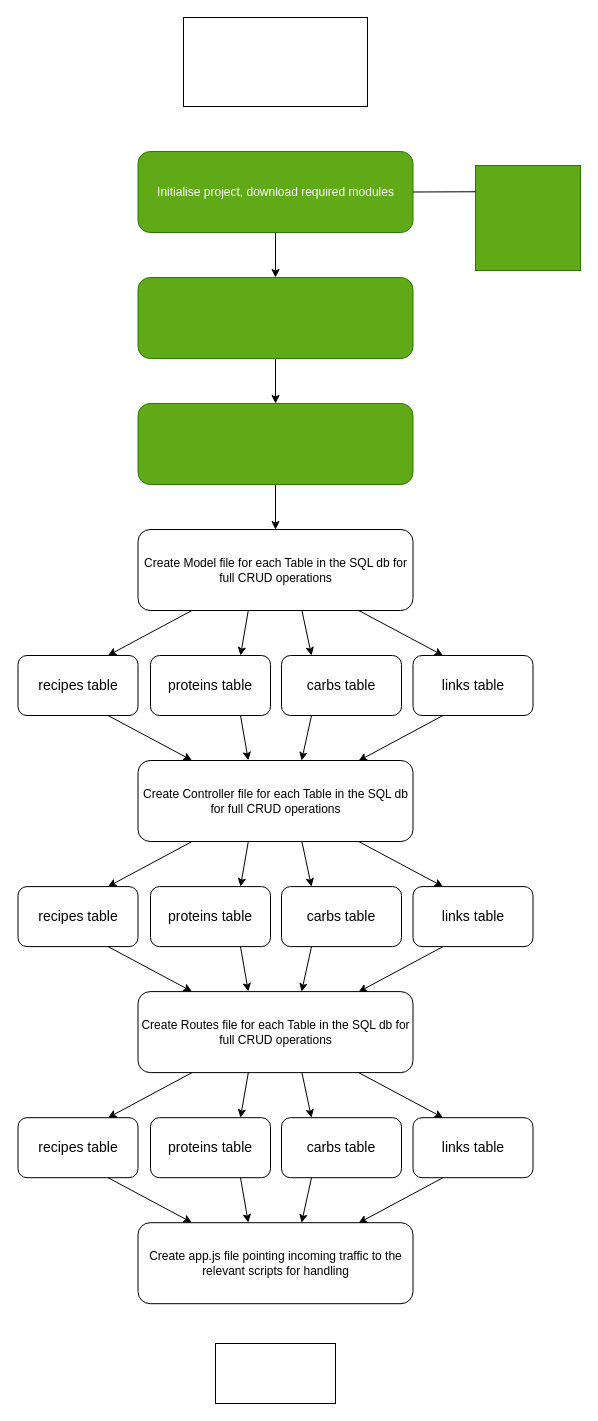
The diagram is 598 pixels wide and 1421 high, and some of its shapes have lost their labels. The shapes that lost their labels are listed below. From the top down, each one's box as (x1, y1, x2, y2) in pixels, then its label:
(182, 16, 368, 106): SPRINT 1
(474, 164, 580, 270): Express Morgan Nodemon pg dotenv
(137, 276, 413, 358): write index file to define pool variable and use connection string in .env file
(137, 402, 413, 484): write reset-database script see Sprint 1 drawSQL for table schemas
(214, 1342, 336, 1404): MVP
